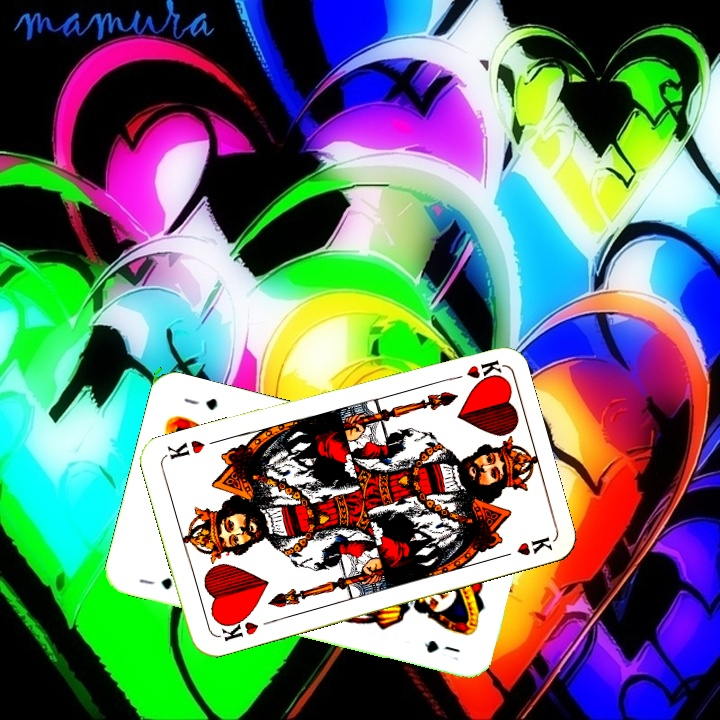GU: (135, 573, 175, 593)
HK: (443, 356, 503, 384), (214, 611, 261, 644)
